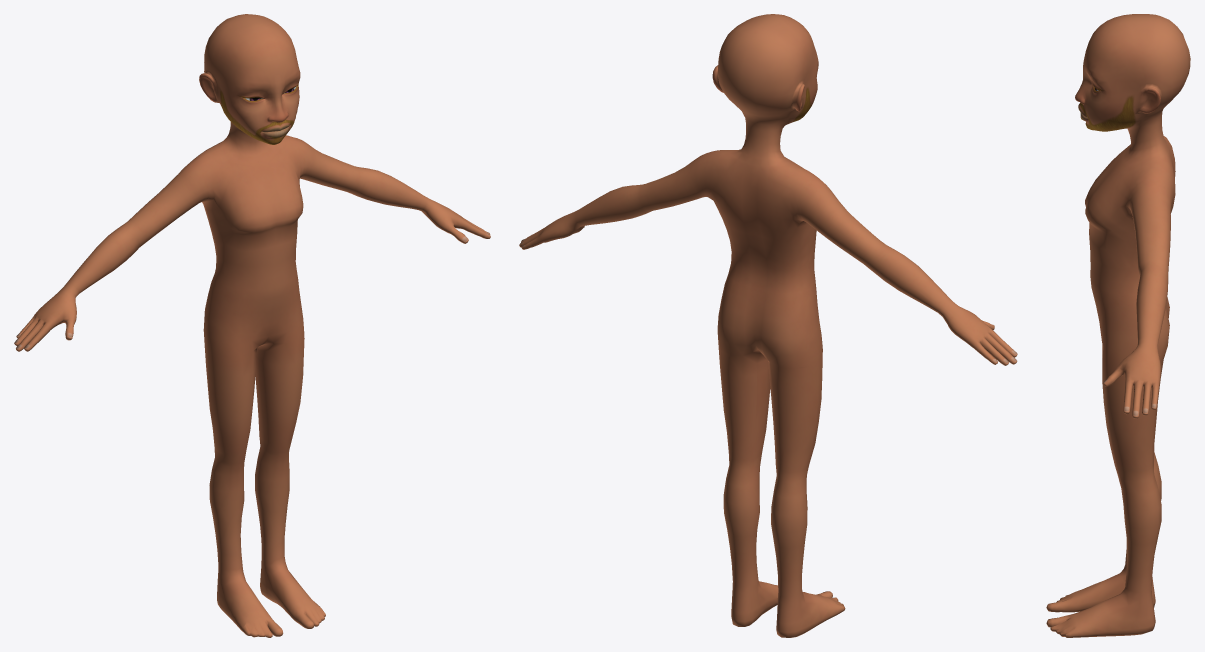
File: frame_0027.glb
The picture shows the model from 3 angles, left to right: view 1: azimuth 30°, elevation 25°; view 2: azimuth 150°, elevation 25°; view 3: azimuth 270°, elevation 25°; orthographic projection. The views are drawn at different scales.
Visible parts, largest first — view 1: frame_0027_head_geo; view 2: frame_0027_head_geo; view 3: frame_0027_head_geo.
Part boxes in pixels (x1,y1,x2,y2): frame_0027_head_geo: (14, 14, 490, 637); frame_0027_head_geo: (519, 14, 1017, 637); frame_0027_head_geo: (1046, 14, 1190, 637).
Size of the model in its own units: 1.28 by 1.5 by 0.3253.
Materials: 3 (3 with a texture image).
